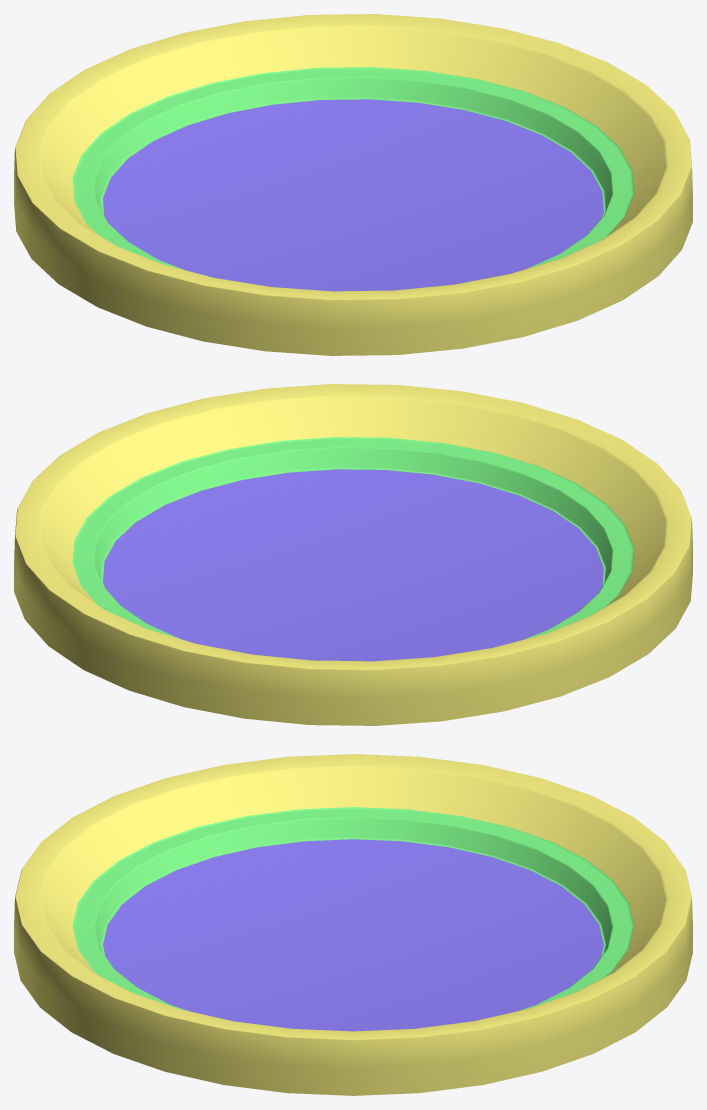
Rendered from Stadium.fbx.
3 views of the same model, one above another, from view 1: azimuth 30°, elevation 25°; view 2: azimuth 150°, elevation 25°; view 3: azimuth 270°, elevation 25° (orthographic).
Parts seen in each view (by area): view 1: Cylinder001; view 2: Cylinder001; view 3: Cylinder001.
Boxes of the visible parts, <box> form: Cylinder001: <box>14,14,692,355</box>; Cylinder001: <box>14,384,692,725</box>; Cylinder001: <box>14,754,692,1095</box>.
Size of the model in its own units: 856 by 77.47 by 856.
